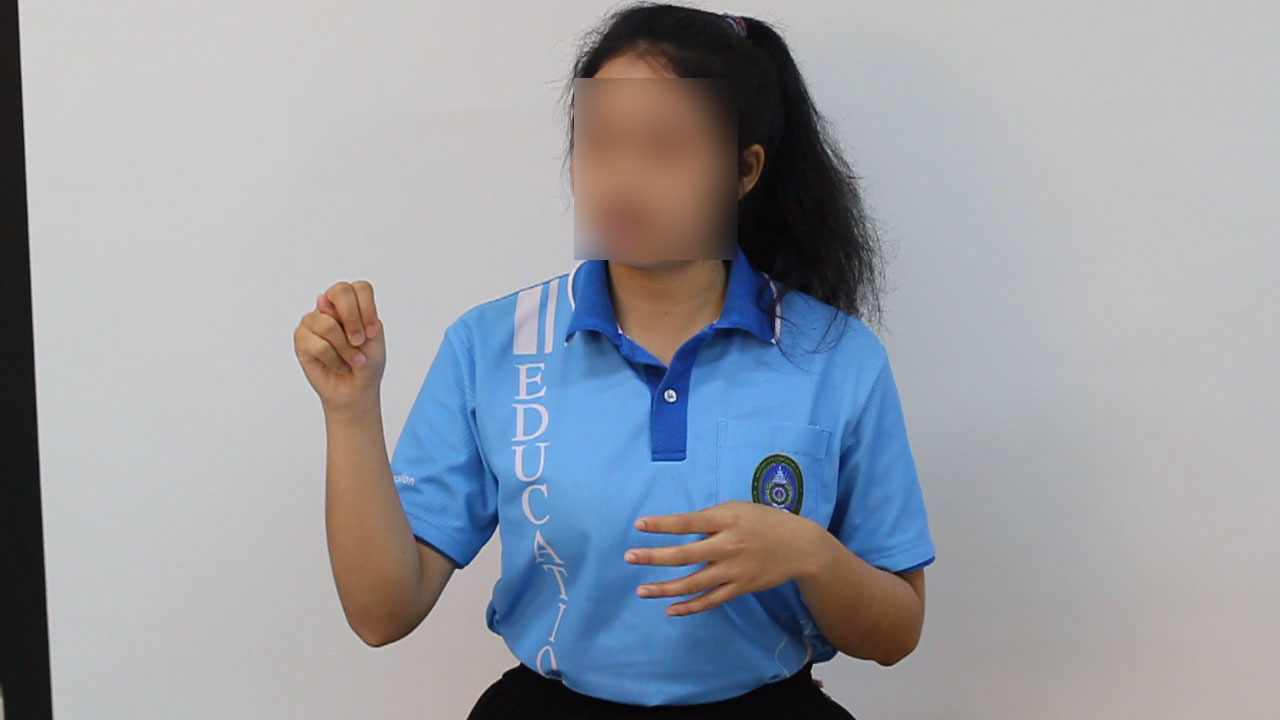nor: (286, 264, 393, 427)
